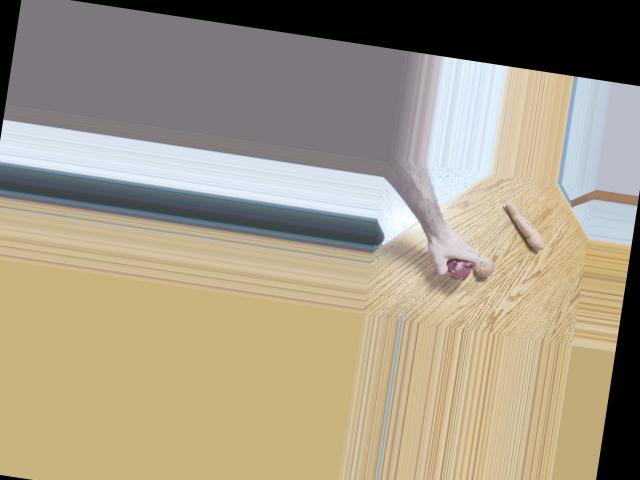onion: (470, 253, 496, 279)
